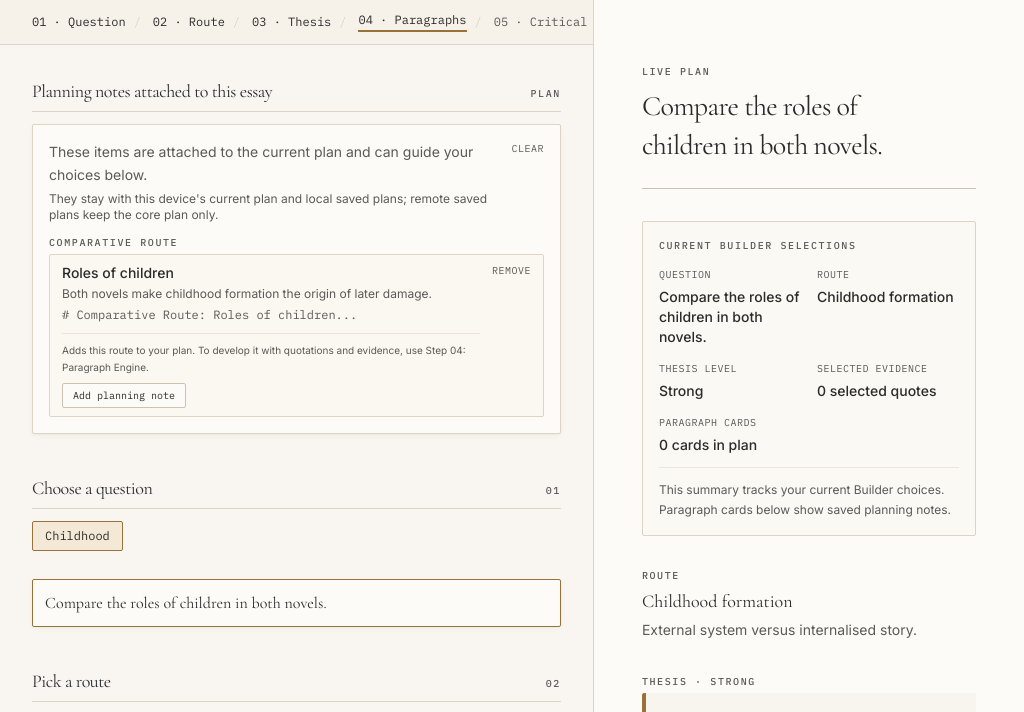
Test: EssayBuilder › renders a matrix route handoff in ExploreIntake, allows creating a paragraph card, and prevents duplicate cards on subsequent clicks
The image size is (1024, 712).
Expected: the heading "Planning notes attached to this essay" is shown, [32,77,272,105]
Expected: the text "Roles of children" is shown, [62,264,174,280]
Click the button with aria-label "Add planning note from Roles of children": {"x": 124, "y": 395} [62,383,186,408]
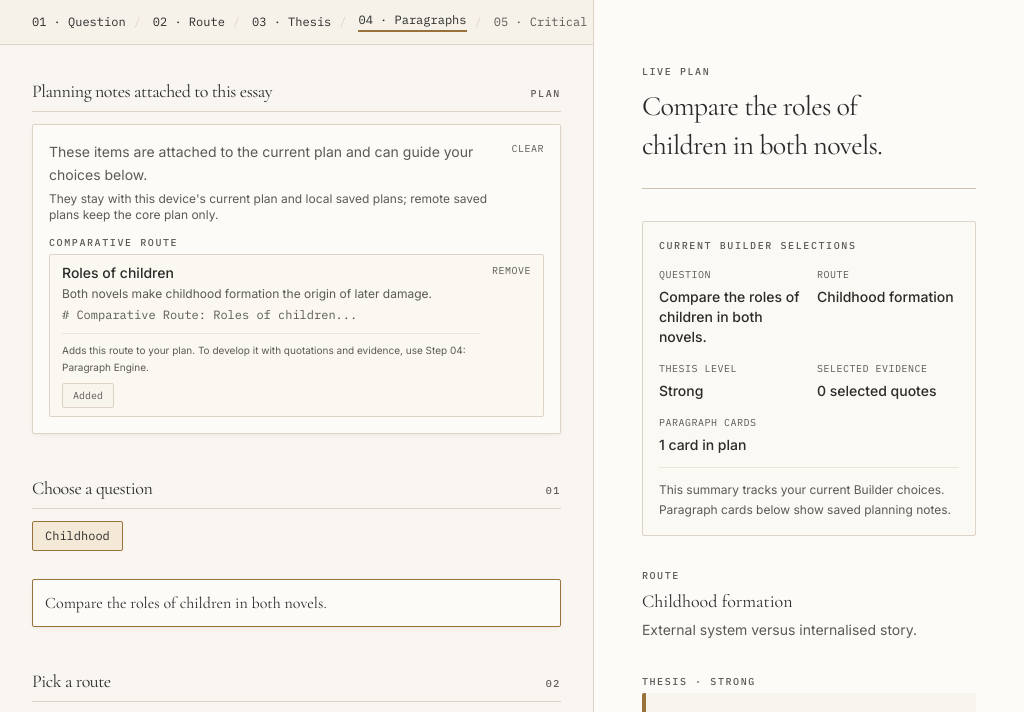
Expected: the text "Roles of children" is shown, [62,264,174,280]
Result: the button with aria-label "Planning note from Roles of children added" is disabled at [62,383,114,408]
